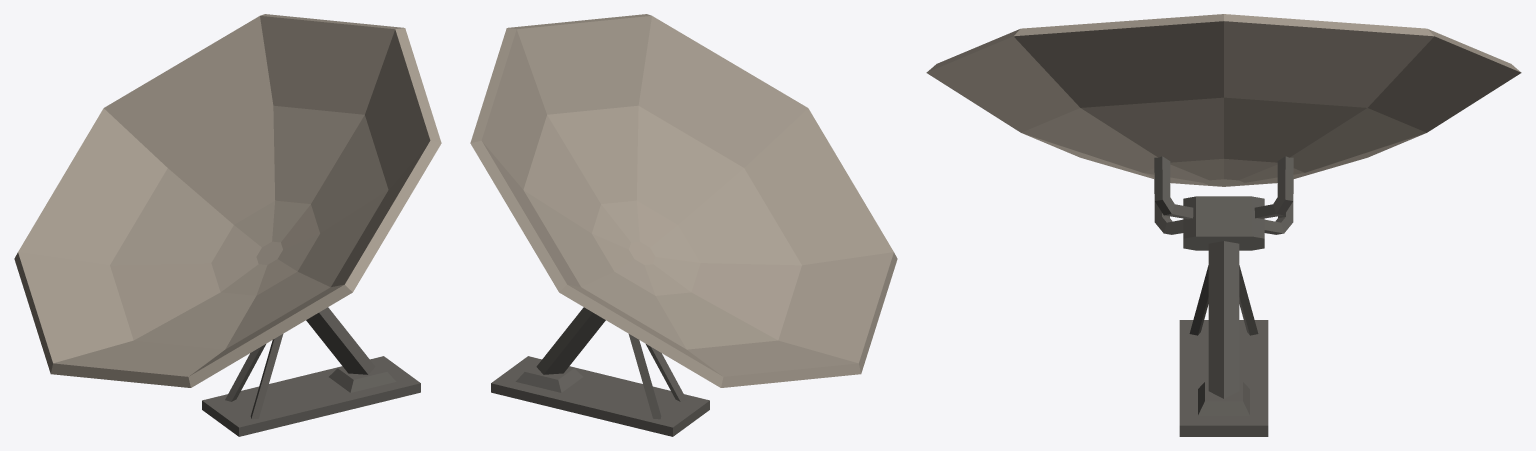
File: SM_Props_Roof_Antenna.fbx
The picture shows the model from 3 angles, left to right: view 1: azimuth 30°, elevation 25°; view 2: azimuth 150°, elevation 25°; view 3: azimuth 270°, elevation 25°; orthographic projection. The views are drawn at different scales.
Visible parts, largest first — view 1: SM_Props_Roof_Antenna; view 2: SM_Props_Roof_Antenna; view 3: SM_Props_Roof_Antenna.
Part boxes in pixels (x1,y1,x2,y2): SM_Props_Roof_Antenna: (14, 14, 441, 436); SM_Props_Roof_Antenna: (470, 14, 897, 436); SM_Props_Roof_Antenna: (926, 14, 1521, 436).
Size of the model in its own units: 158 by 152 by 193.
